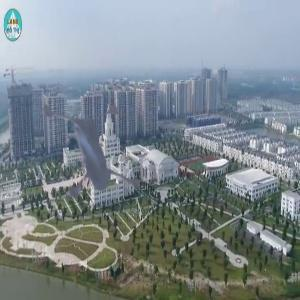drone: (4, 71, 168, 235)
